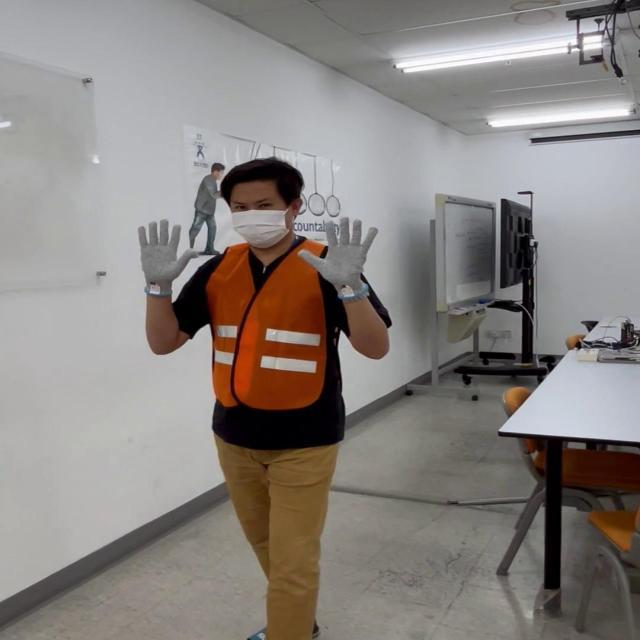gloved_hand: (300, 218, 377, 288), (132, 220, 204, 289)
